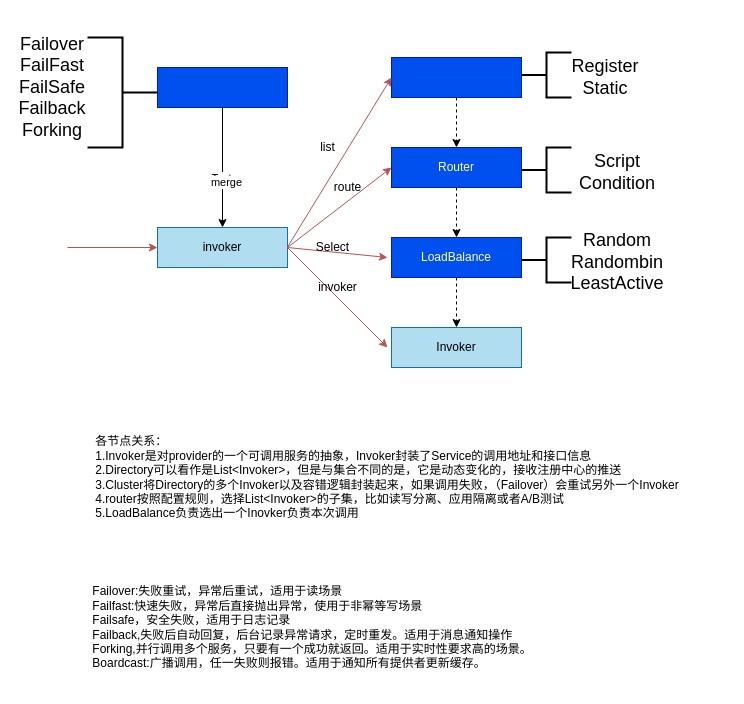
The diagram is 744 pixels wide and 704 high, and some of its shapes have lost their labels. Here are the shapes that lost their labels. From the top down, the centre of each, then its label:
At (222,87): "Cluster".
At (456,77): "Directory".
